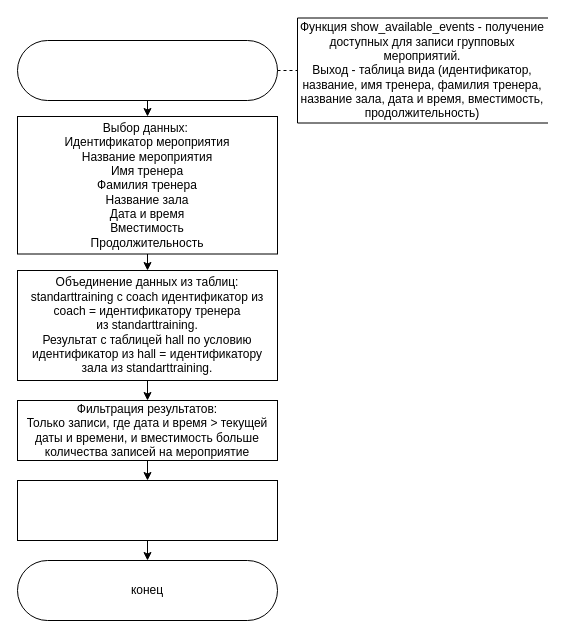
Some shapes in this 565 by 638 pixel diagram are drawn without their labels. The centre of each missing label's shape, as x and y in pixels:
возврат результата: point 147,510
начало: point 147,70
